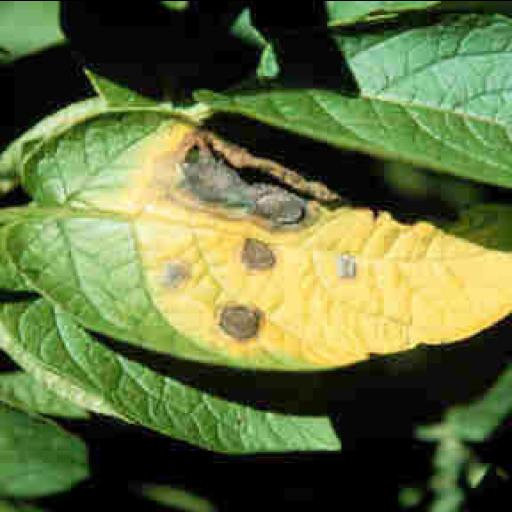disease_tomato: (7, 106, 512, 374)
